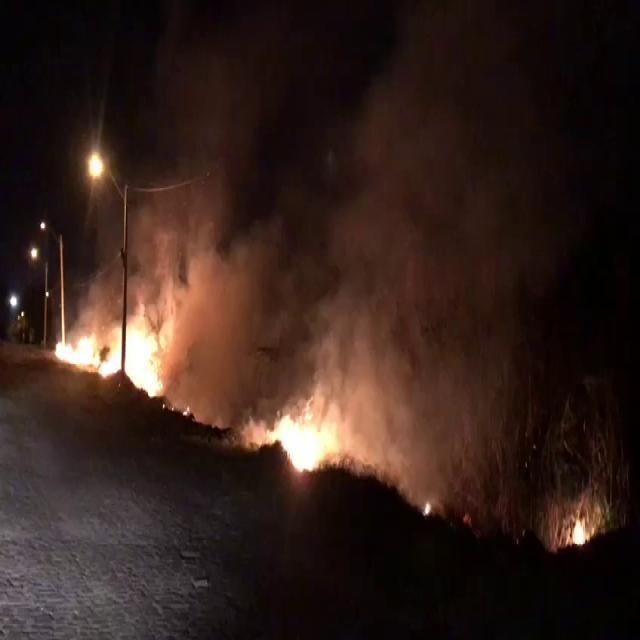Fire: (56, 318, 166, 398), (258, 408, 334, 476), (574, 512, 590, 550), (422, 498, 431, 514)
Smoke: (344, 311, 410, 492), (166, 247, 237, 371), (312, 288, 344, 397), (150, 221, 182, 311), (68, 280, 102, 334)
